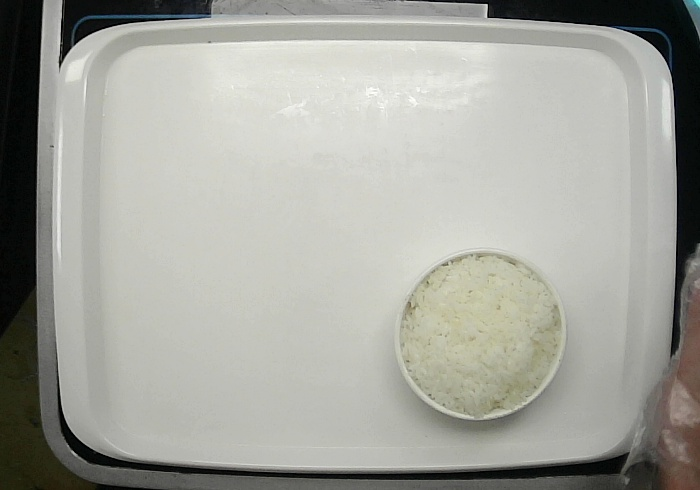HZYJPL-Fan_Wan: (394, 248, 567, 421)
